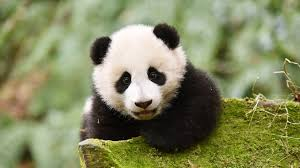panda: (62, 22, 225, 156)
